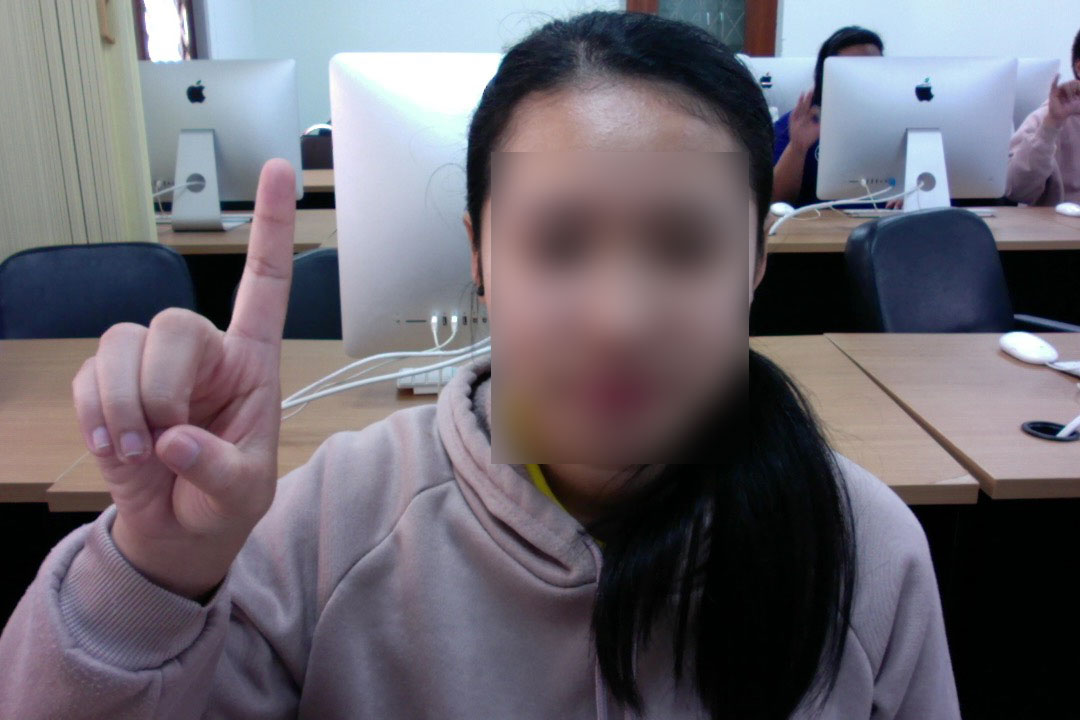dor: (69, 147, 311, 530)
